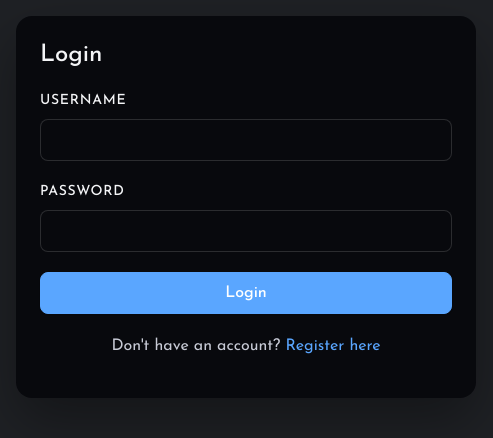
Test: Login Component › handles login error
This screenshot has width=493, height=438.
Type "testuser" into the field labelled "Username" at (246, 140), box 40,119 -> 452,161
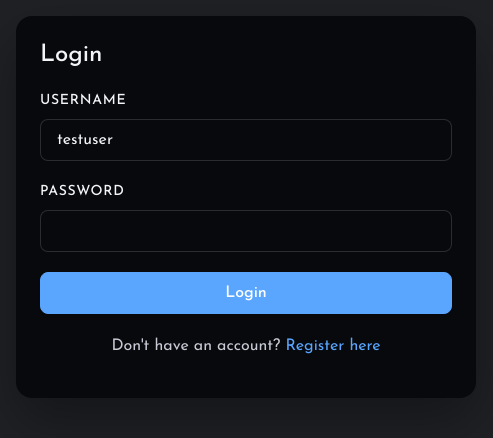
Type "wrongpass" into the password field labelled "Password" at (246, 231), box 40,210 -> 452,252
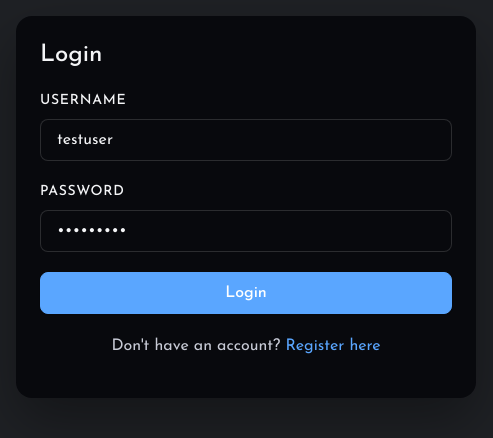
Click the button "Login" at (246, 293), box 40,272 -> 452,314
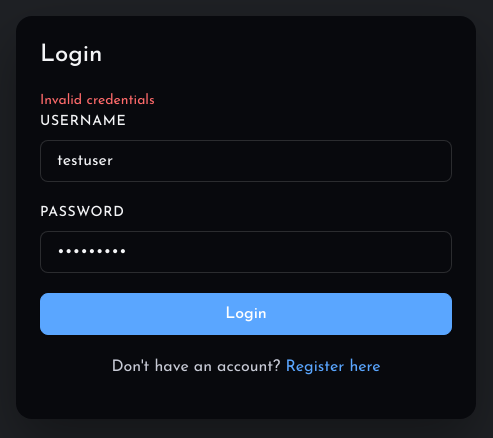
Expected: the text "Invalid credentials" is shown, 40,93 -> 155,108
